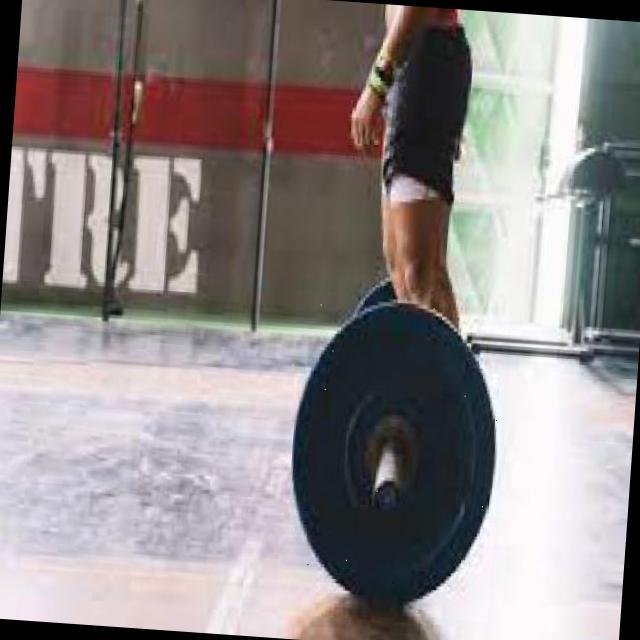barbell: (275, 291, 511, 623)
